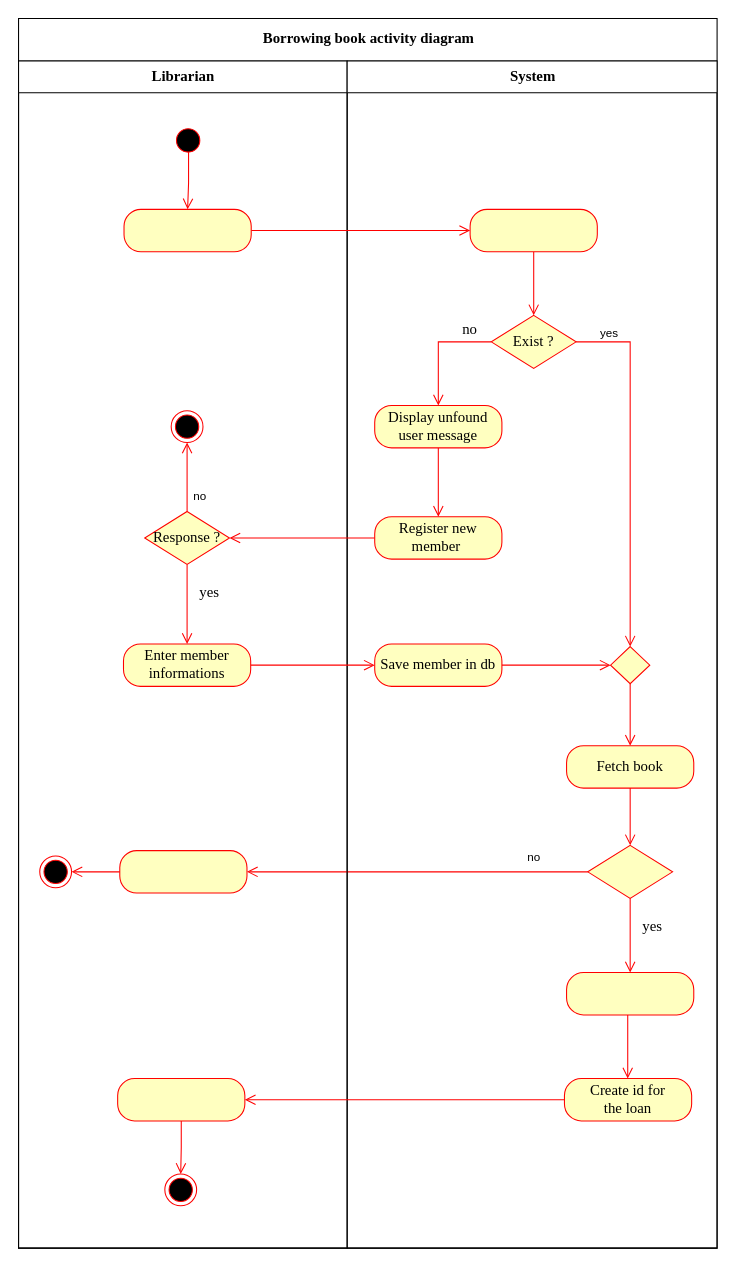
The diagram is 736 pixels wide and 1267 high, and some of its shapes have lost their labels. The centre of each missing label's shape, as x and y in pixels:
Avalaible ?: [630,871]
Display unavailable book message: [183,871]
Enter member details: [187,230]
Fetch member: [533,230]
Receive loan notification: [181,1099]
Update book state (borrowed): [630,993]
